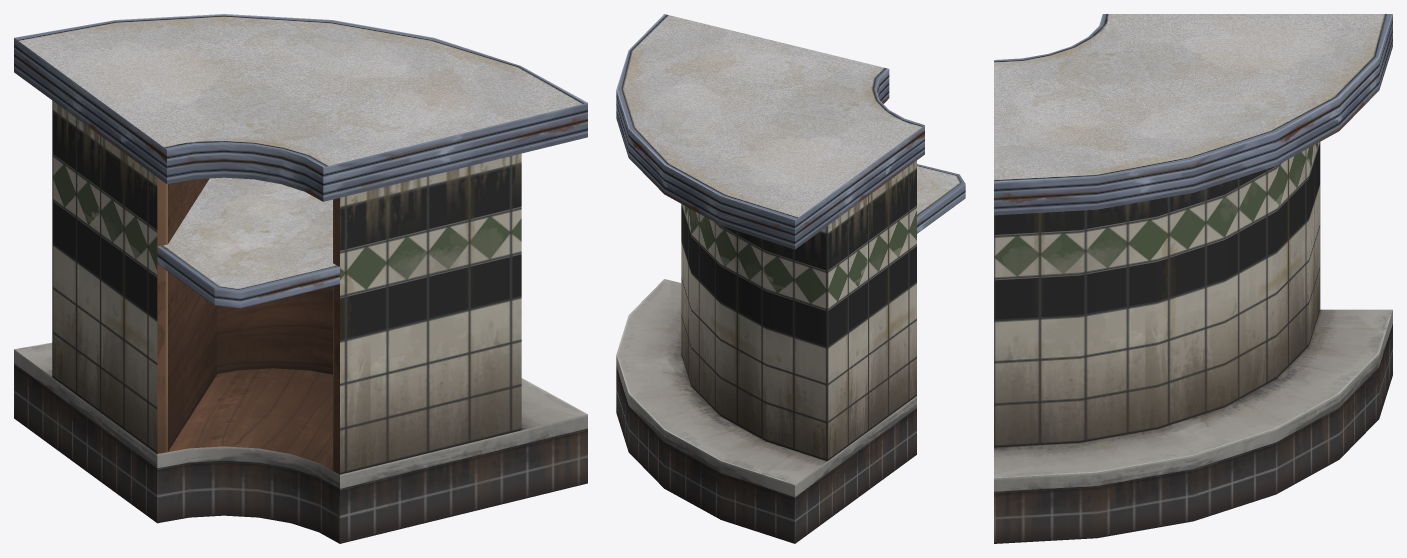
The model's file is KTB0110011.fbx.
The picture shows the model from 3 angles, left to right: view 1: azimuth 30°, elevation 25°; view 2: azimuth 150°, elevation 25°; view 3: azimuth 270°, elevation 25°; orthographic projection. The views are drawn at different scales.
Visible parts, largest first — view 1: smKTB0110011; view 2: smKTB0110011; view 3: smKTB0110011.
Boxes of the visible parts, x1,y1,x2,y2 form: smKTB0110011: [14, 14, 587, 543]; smKTB0110011: [616, 14, 965, 543]; smKTB0110011: [994, 14, 1392, 543].
Bounding box in the file's own units: 110 × 110 × 110.
1 material, 1 textured.
